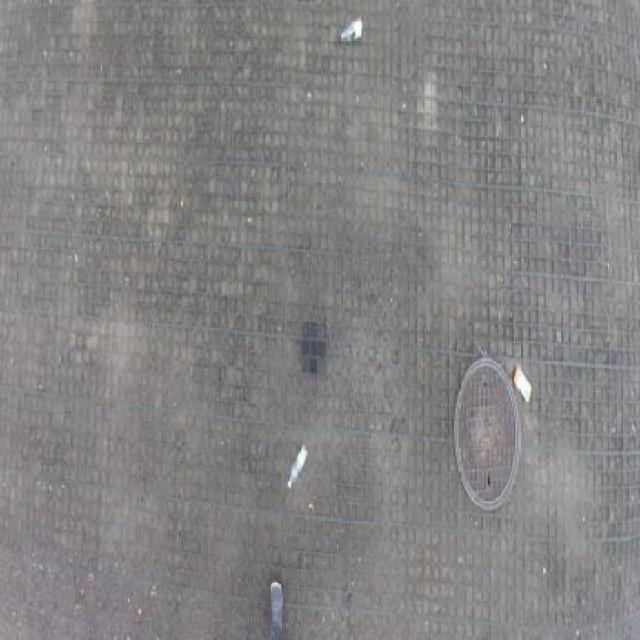Garbage: (287, 443, 309, 489), (512, 365, 533, 405), (339, 16, 365, 44)
